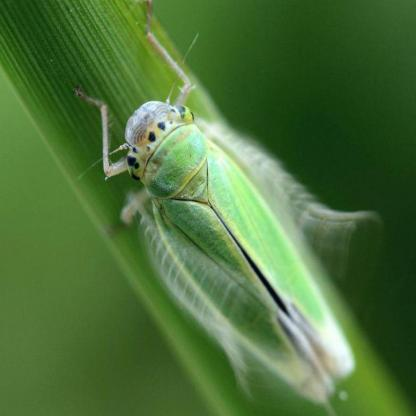Green-Leafhopper: (84, 26, 367, 398)
